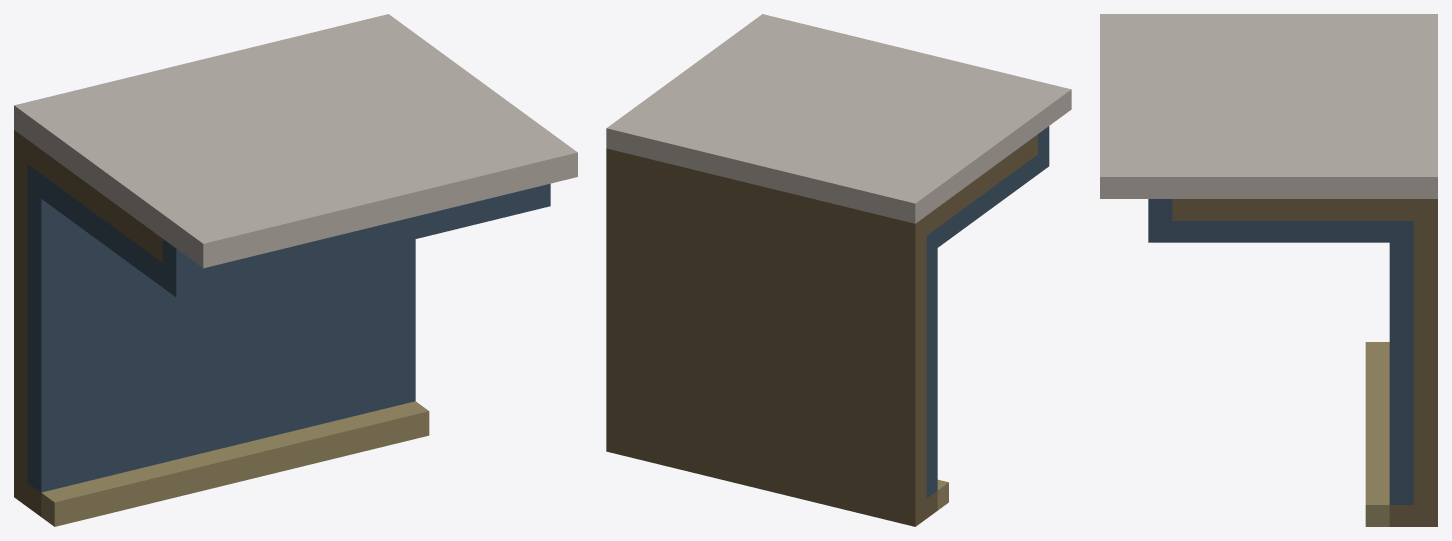
The model's file is CounterOpen.obj.
The picture shows the model from 3 angles, left to right: view 1: azimuth 30°, elevation 25°; view 2: azimuth 150°, elevation 25°; view 3: azimuth 270°, elevation 25°; orthographic projection. The views are drawn at different scales.
Parts seen in each view (by area): view 1: CounterOpen; view 2: CounterOpen; view 3: CounterOpen.
Part boxes in pixels (x1,y1,x2,y2): CounterOpen: (14, 14, 577, 526); CounterOpen: (606, 14, 1071, 526); CounterOpen: (1100, 14, 1437, 526).
Size of the model in its own units: 16 by 16 by 14.
1 material, 1 textured.
